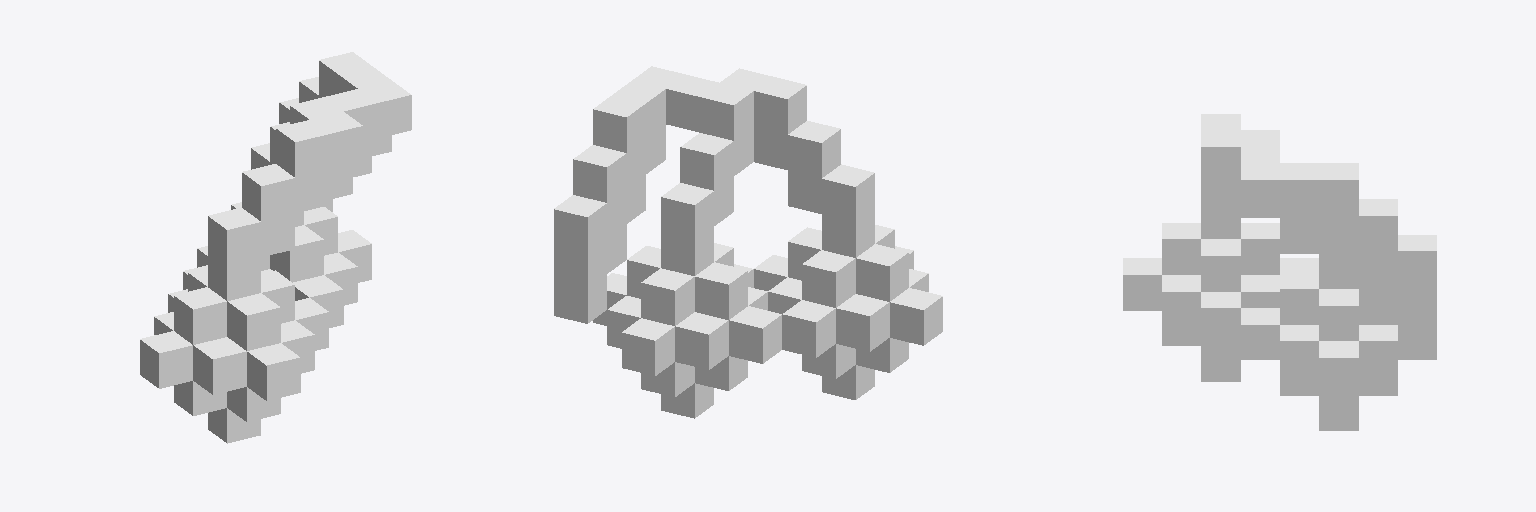
The model's file is berriesingredients.obj.
The picture shows the model from 3 angles: view 1: azimuth 30°, elevation 25°; view 2: azimuth 150°, elevation 25°; view 3: azimuth 270°, elevation 25°; orthographic projection.
Visible parts, largest first — view 1: object 1; view 2: object 1; view 3: object 1.
Boxes of the visible parts, <box> form: object 1: <box>140,52,411,443</box>; object 1: <box>554,66,942,418</box>; object 1: <box>1123,114,1436,430</box>.
Bounding box in the file's own units: 0.8 × 0.8 × 0.8.